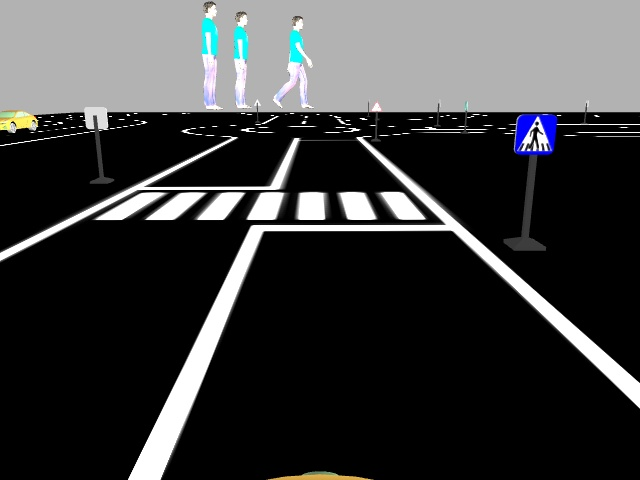Crosswalk: (514, 111, 557, 155)
